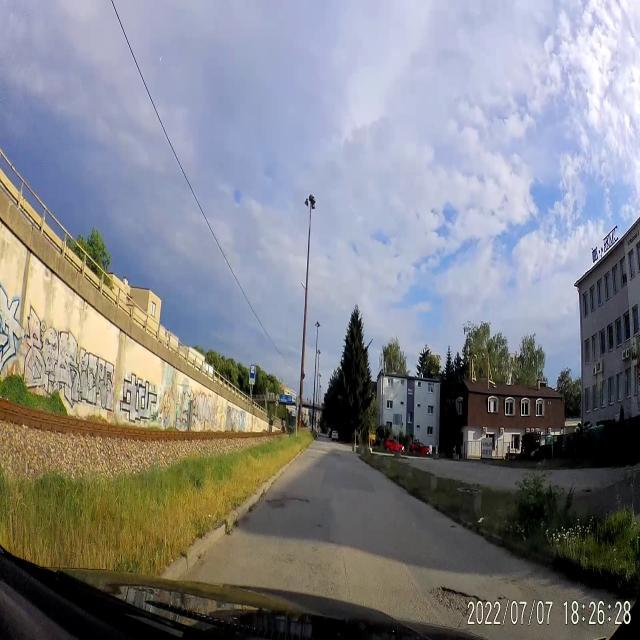Pothole: (428, 576, 488, 625), (264, 492, 311, 514)
